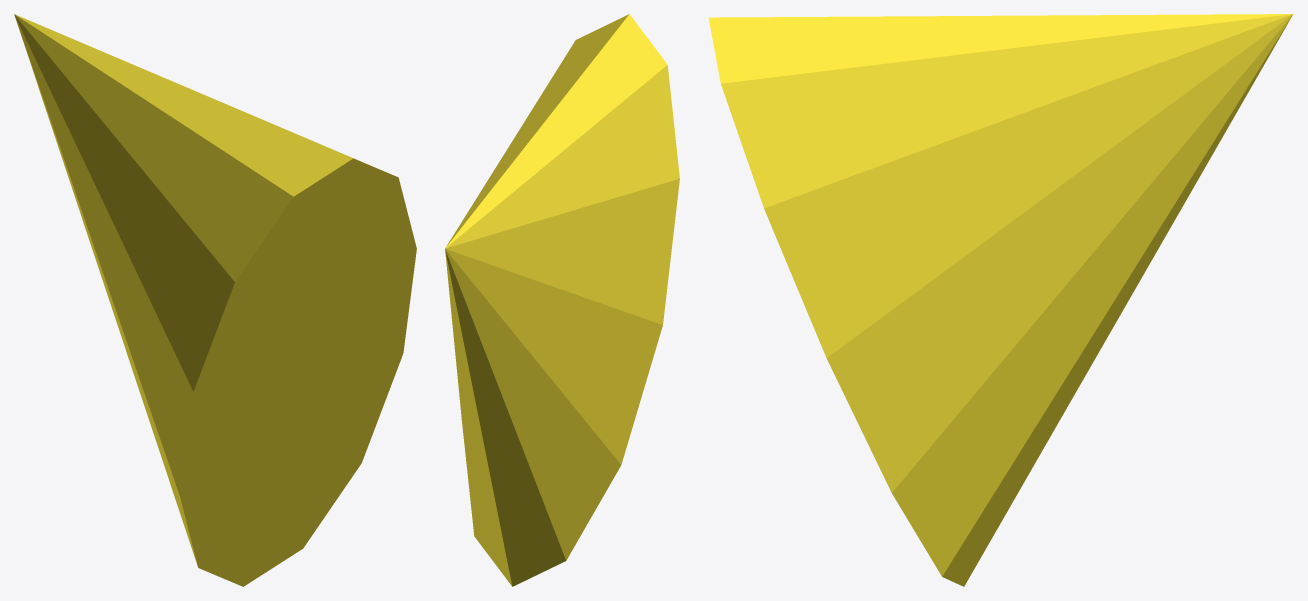
The model's file is n5_n5_group1947761025_lev5.glb.
3 renders of one model, left to right at view 1: azimuth 30°, elevation 25°; view 2: azimuth 150°, elevation 25°; view 3: azimuth 270°, elevation 25°, orthographic. The views are drawn at different scales.
Parts seen in each view (by area): view 1: n5_n5_group1947761025_lev5; view 2: n5_n5_group1947761025_lev5; view 3: n5_n5_group1947761025_lev5.
Part boxes in pixels (x1,y1,x2,y2): n5_n5_group1947761025_lev5: [14, 14, 416, 586]; n5_n5_group1947761025_lev5: [445, 14, 679, 586]; n5_n5_group1947761025_lev5: [708, 14, 1293, 586].
Bounding box in the file's own units: 0.3662 × 0.8961 × 0.8392.
